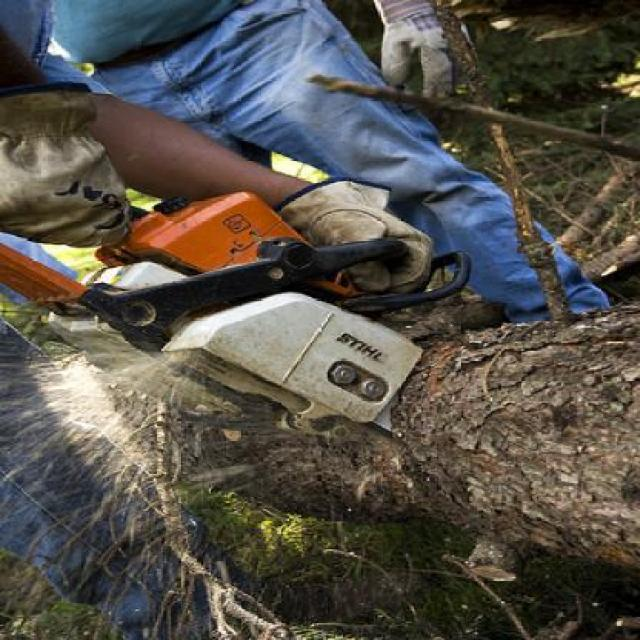Chainsaw: (0, 188, 472, 434)
